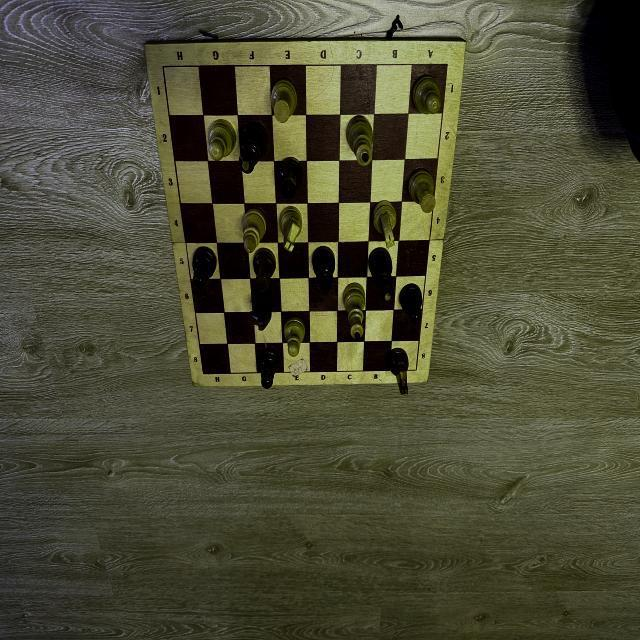chess-table-corners: (158, 62, 168, 72), (444, 60, 451, 70), (414, 366, 418, 374), (201, 371, 206, 377)
